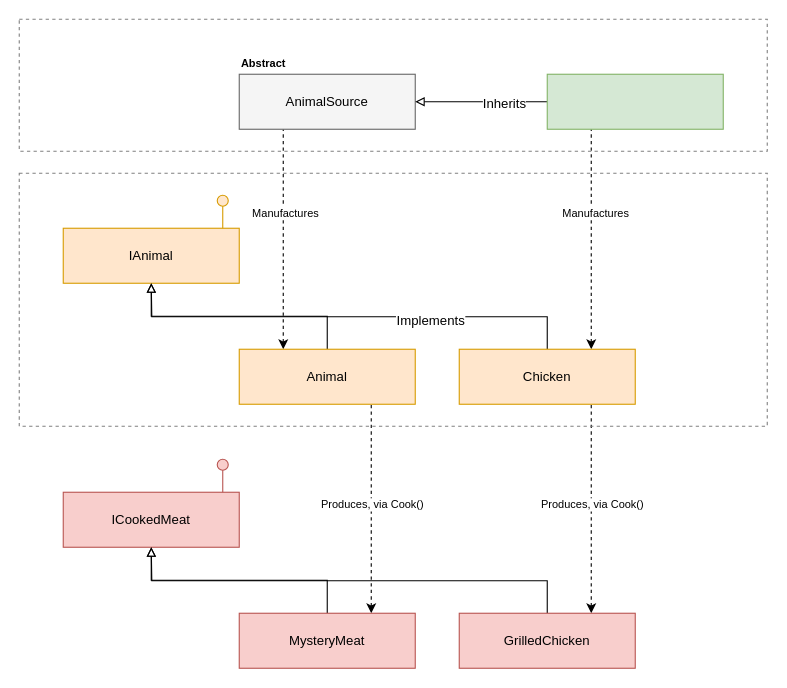
This 787x688 diagram has some shape labels left out. The shapes that lost their labels are listed below. From the top down, each one's box as (x1, y1, x2, y2) in pixels, then its label:
(18, 18, 767, 151): Creators/Factories
(546, 73, 723, 129): ChickenSource
(18, 172, 767, 426): Products
